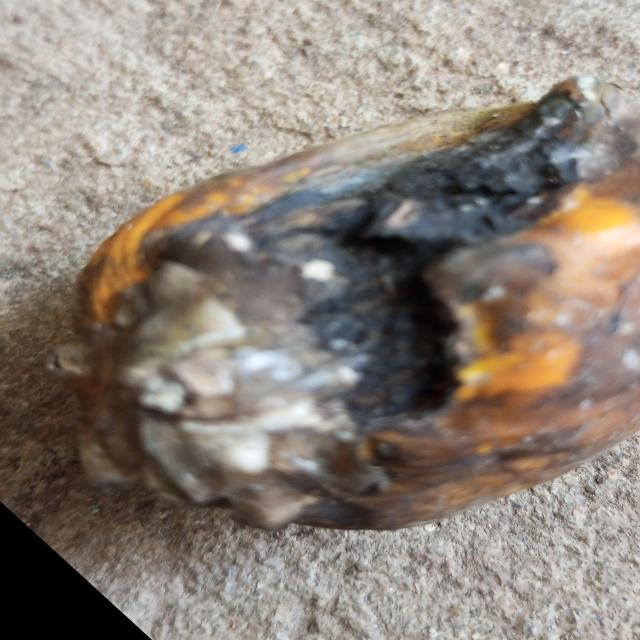damaged: (53, 76, 640, 536)
